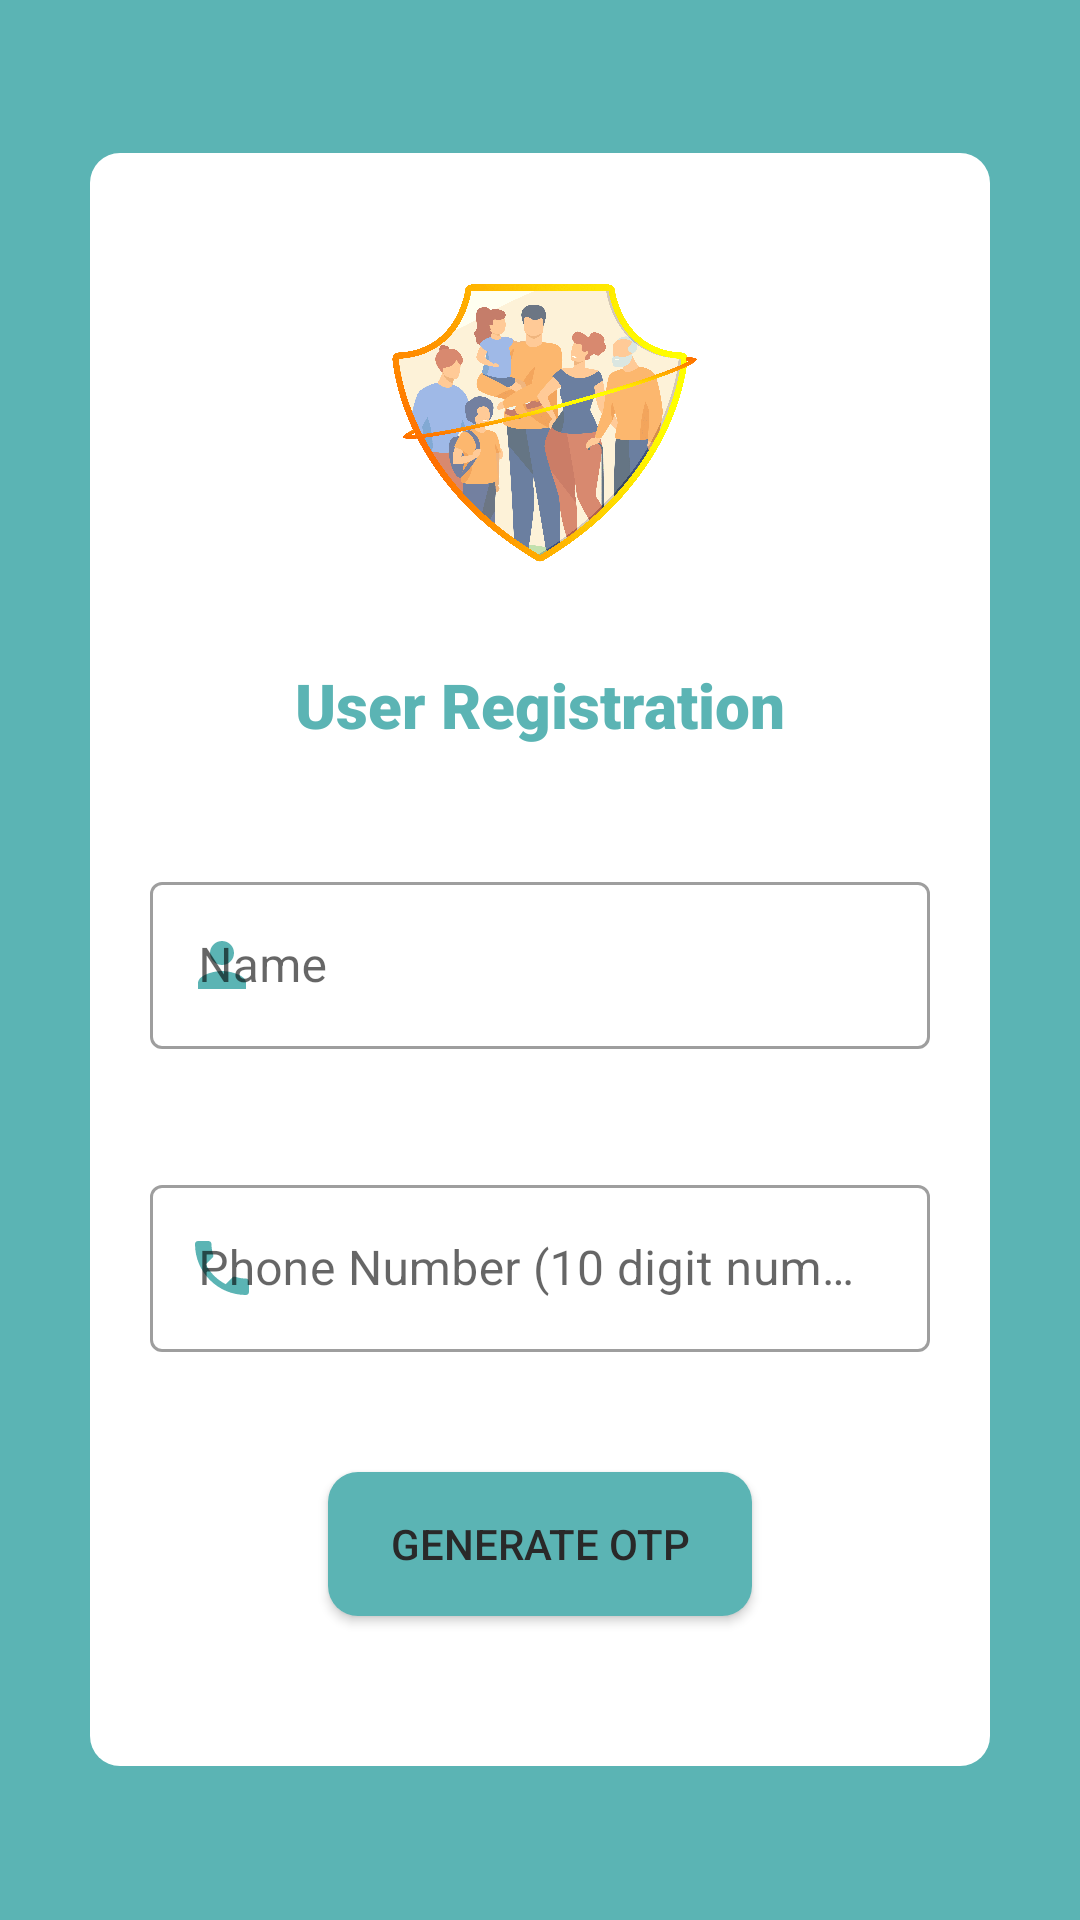

Named icons in this screenshot (1080w x 1920h) and their centers, (x=x, y=y):
App Icon: (x=544, y=423)
